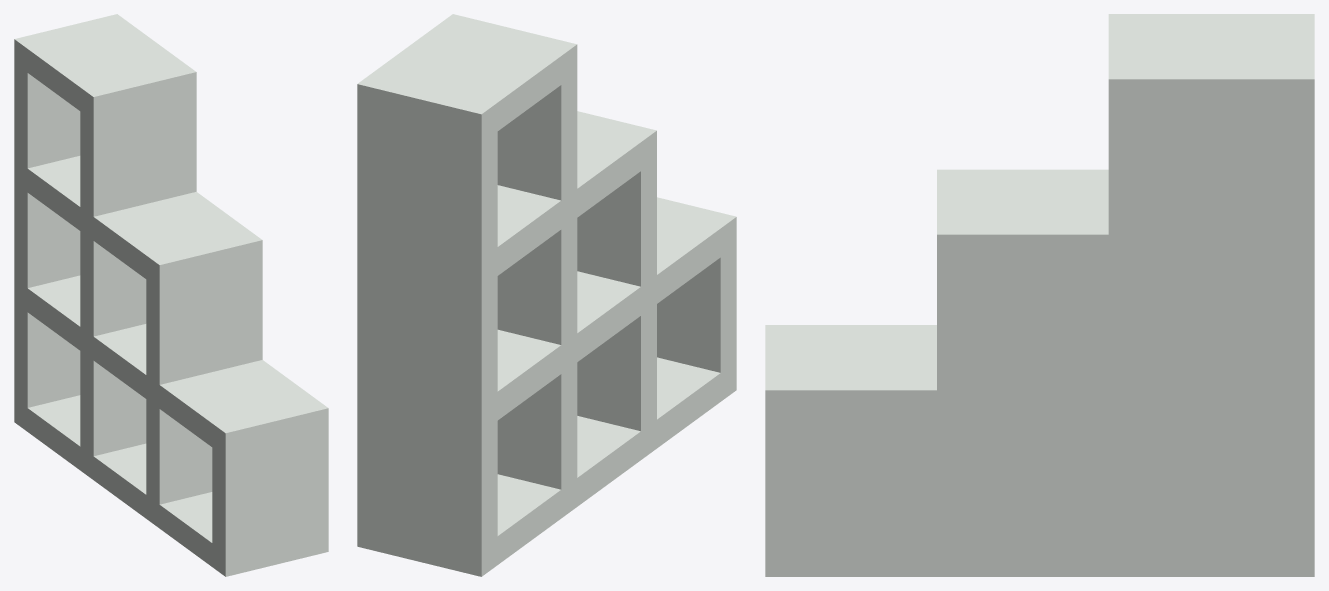
File: shelf.obj
3 views of the same model, side by side, from view 1: azimuth 30°, elevation 25°; view 2: azimuth 150°, elevation 25°; view 3: azimuth 270°, elevation 25° (orthographic). The views are drawn at different scales.
Size of the model in its own units: 0.9 by 3.2 by 3.2.
1 material, 1 textured.
